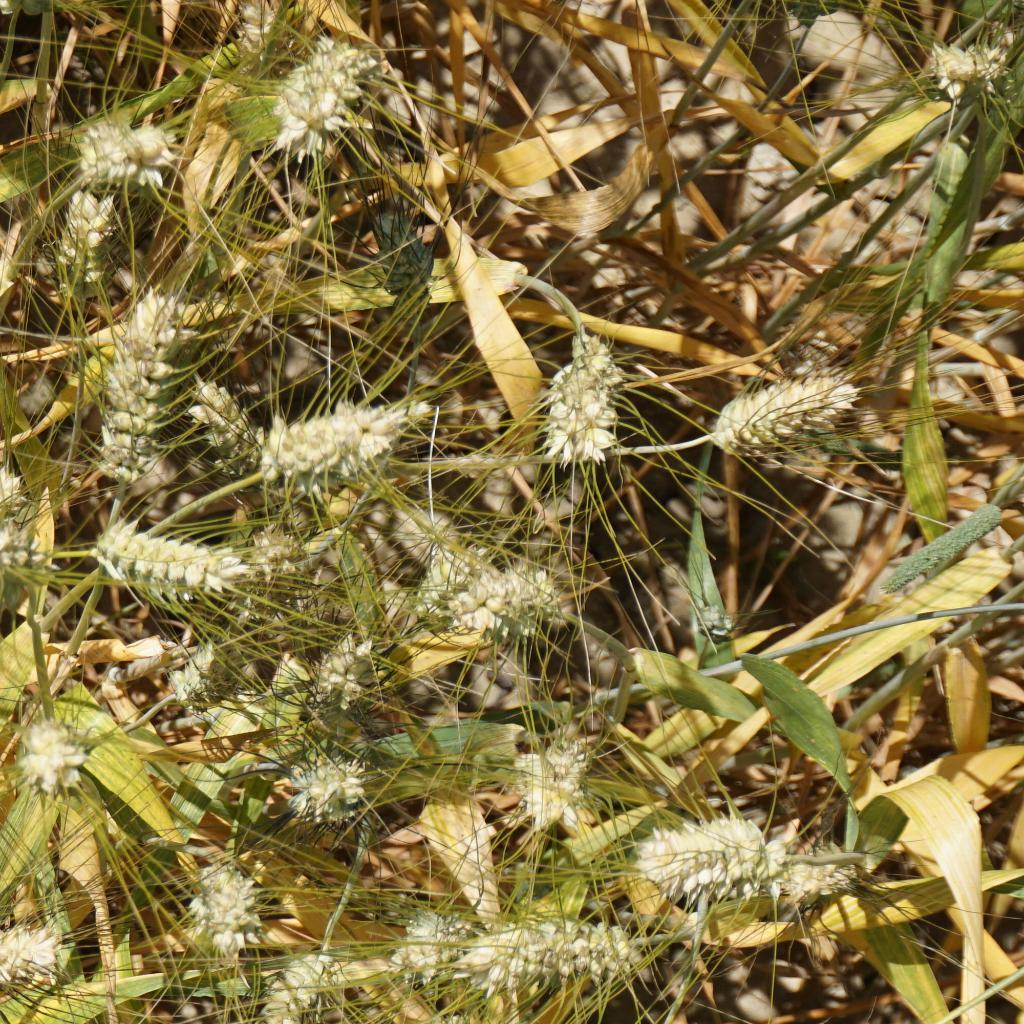0-0: (466, 905, 653, 1012), (94, 277, 179, 494), (702, 363, 874, 464), (256, 379, 405, 494), (632, 803, 777, 905), (541, 321, 624, 480), (88, 514, 220, 606), (281, 41, 374, 171), (365, 189, 442, 331), (451, 555, 572, 642), (509, 728, 598, 841), (183, 858, 271, 967), (762, 836, 887, 912), (7, 693, 96, 789), (919, 17, 1017, 98), (41, 173, 112, 281), (281, 734, 368, 821), (397, 543, 476, 635), (391, 909, 474, 994), (183, 370, 258, 462), (248, 951, 332, 1024), (0, 902, 72, 986), (147, 628, 222, 707), (78, 112, 163, 179), (313, 626, 388, 700), (689, 593, 742, 649), (0, 464, 29, 545), (393, 1010, 490, 1024)
